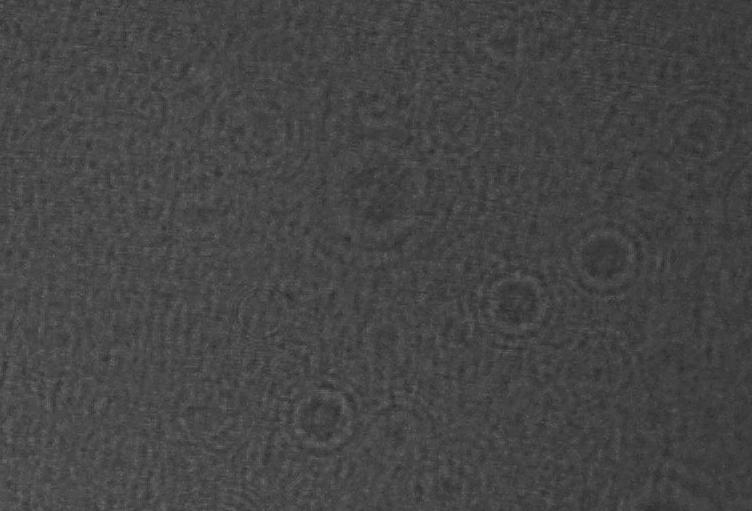bead: (561, 203, 669, 307), (268, 372, 372, 461), (470, 251, 559, 355)
